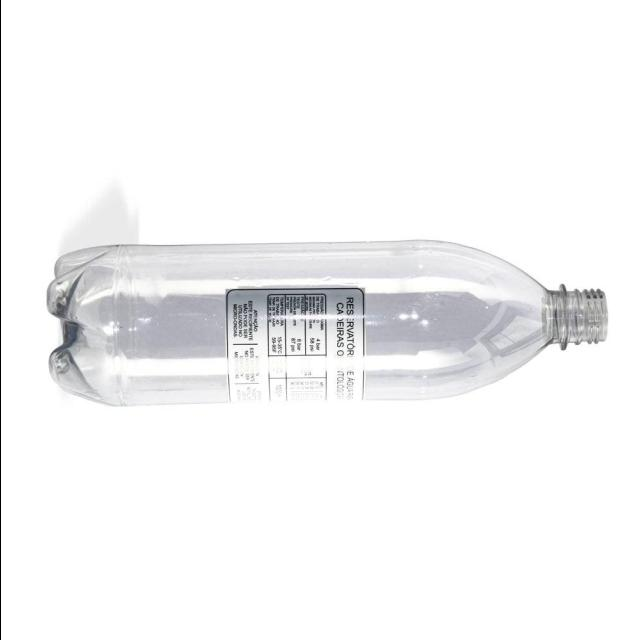bottom: (39, 228, 128, 408)
no_cap: (536, 264, 607, 357)
